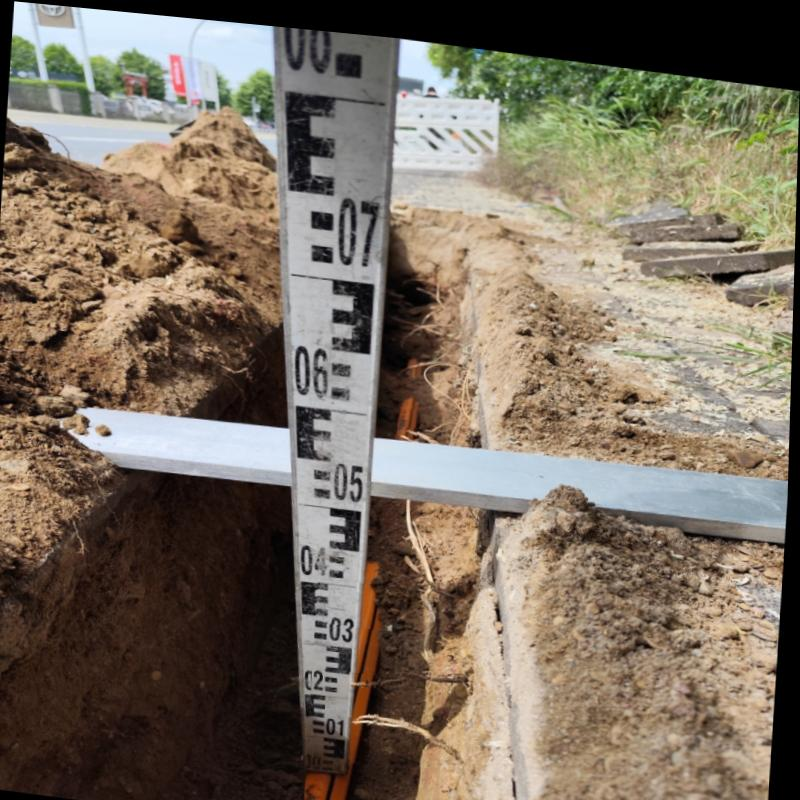Orang-Speednetrohrchen: (308, 553, 391, 800), (399, 388, 423, 431)
